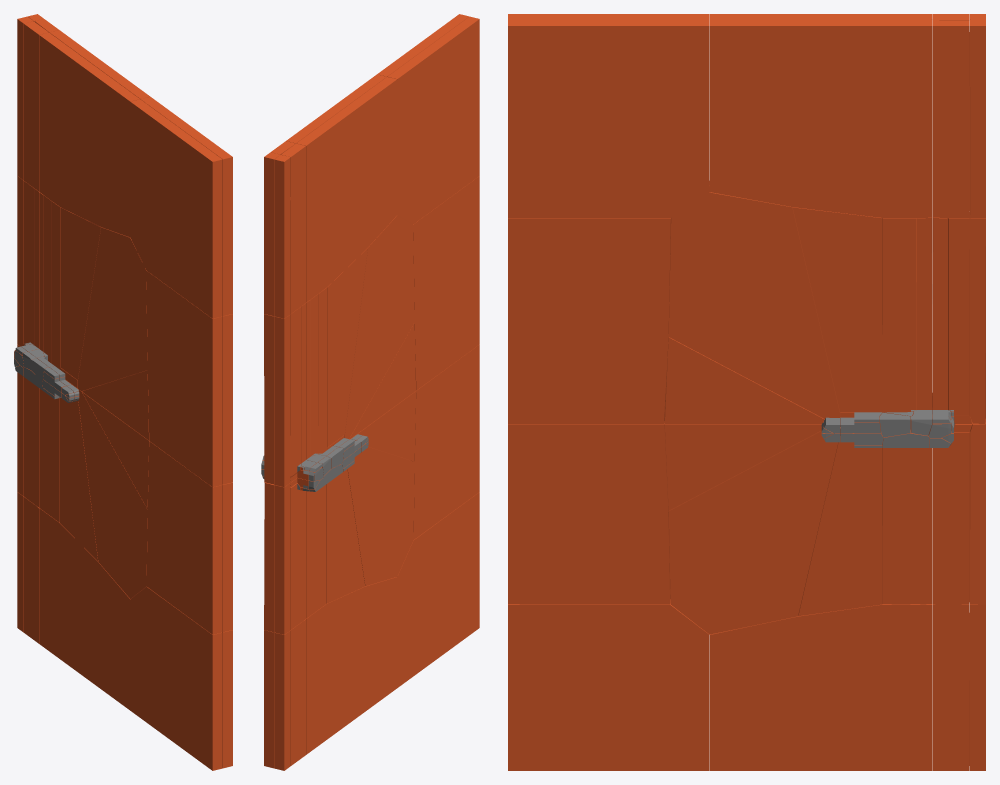
Rendered from bathroom_door_kaputt.glb.
3 renders of one model, left to right at view 1: azimuth 30°, elevation 25°; view 2: azimuth 150°, elevation 25°; view 3: azimuth 270°, elevation 25°, orthographic. The views are drawn at different scales.
Visible parts, largest first — view 1: Cube.001_cell.001, Cube.001_cell.028, Cube.001_cell.012, Cube.001_cell, Cube.001_cell.024, Cube.001_cell.008, Cube.001_cell.109, Cube.001_cell.112, Cube.001_cell.106, Cube.001_cell.107, Cube.001_cell.017, Cube.001_cell.005 (+18 smaller); view 2: Cube.001_cell.028, Cube.001_cell.001, Cube.001_cell.024, Cube.001_cell, Cube.001_cell.012, Cube.001_cell.008, Cube.001_cell.109, Cube.001_cell.112, Cube.001_cell.106, Cube.001_cell.107, Cube.001_cell.013, Cube.001_cell.003 (+19 smaller); view 3: Cube.001_cell.025, Cube.001_cell.005, Cube.001_cell.029, Cube.001_cell.004, Cube.001_cell.015, Cube.001_cell.011, Cube.001_cell.101, Cube.001_cell.102, Cube.001_cell.098, Cube.001_cell.099, Cube.001_cell.026, Cube.001_cell.019 (+14 smaller).
Boxes of the visible parts, left/top/right/bottom form: Cube.001_cell.001: left=130, top=99, right=222, bottom=318; Cube.001_cell.028: left=39, top=32, right=139, bottom=237; Cube.001_cell.012: left=146, top=270, right=222, bottom=487; Cube.001_cell: left=130, top=587, right=222, bottom=770; Cube.001_cell.024: left=39, top=508, right=130, bottom=710; Cube.001_cell.008: left=146, top=441, right=222, bottom=634; Cube.001_cell.109: left=78, top=227, right=147, bottom=390; Cube.001_cell.112: left=78, top=389, right=147, bottom=598; Cube.001_cell.106: left=60, top=207, right=100, bottom=379; Cube.001_cell.107: left=60, top=398, right=98, bottom=561; Cube.001_cell.017: left=24, top=21, right=48, bottom=191; Cube.001_cell.005: left=140, top=97, right=232, bottom=315; Cube.001_cell.028: left=297, top=77, right=397, bottom=302; Cube.001_cell.001: left=387, top=16, right=479, bottom=224; Cube.001_cell.024: left=306, top=577, right=397, bottom=754; Cube.001_cell: left=397, top=492, right=479, bottom=687; Cube.001_cell.012: left=413, top=176, right=479, bottom=390; Cube.001_cell.008: left=411, top=344, right=479, bottom=539; Cube.001_cell.109: left=344, top=215, right=414, bottom=438; Cube.001_cell.112: left=347, top=447, right=414, bottom=585; Cube.001_cell.106: left=327, top=248, right=367, bottom=447; Cube.001_cell.107: left=326, top=469, right=364, bottom=603; Cube.001_cell.013: left=274, top=314, right=290, bottom=487; Cube.001_cell.003: left=274, top=155, right=290, bottom=318; Cube.001_cell.025: left=709, top=20, right=932, bottom=217; Cube.001_cell.005: left=508, top=20, right=709, bottom=217; Cube.001_cell.029: left=709, top=604, right=932, bottom=770; Cube.001_cell.004: left=508, top=599, right=709, bottom=770; Cube.001_cell.015: left=508, top=218, right=670, bottom=423; Cube.001_cell.011: left=508, top=422, right=670, bottom=604; Cube.001_cell.101: left=668, top=186, right=839, bottom=418; Cube.001_cell.102: left=668, top=430, right=838, bottom=634; Cube.001_cell.098: left=792, top=207, right=882, bottom=412; Cube.001_cell.099: left=798, top=429, right=882, bottom=616; Cube.001_cell.026: left=882, top=444, right=932, bottom=604; Cube.001_cell.019: left=932, top=20, right=969, bottom=217.
Size of the model in its own units: 0.3909 by 4.3 by 2.5.
